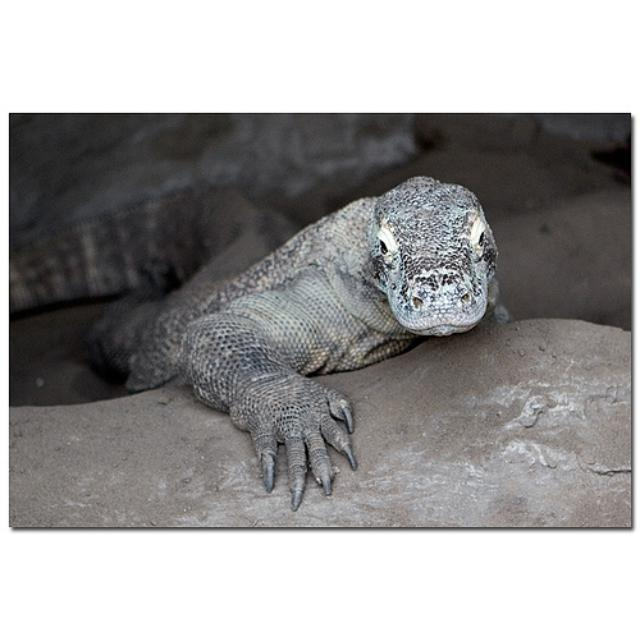KomodoDragon: (8, 174, 499, 517)
